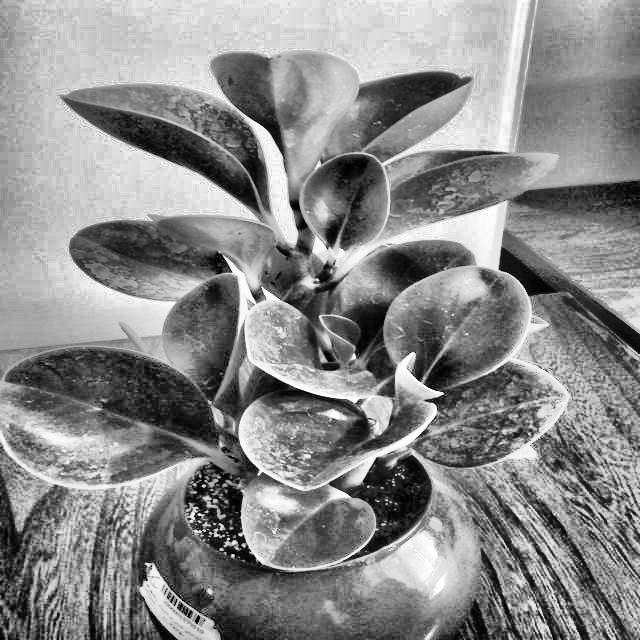plants: (24, 46, 538, 640)
